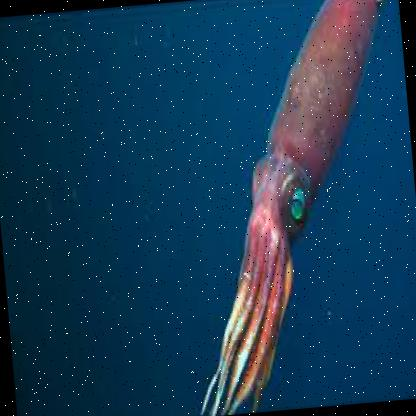colossal_squid: (160, 0, 415, 415)
